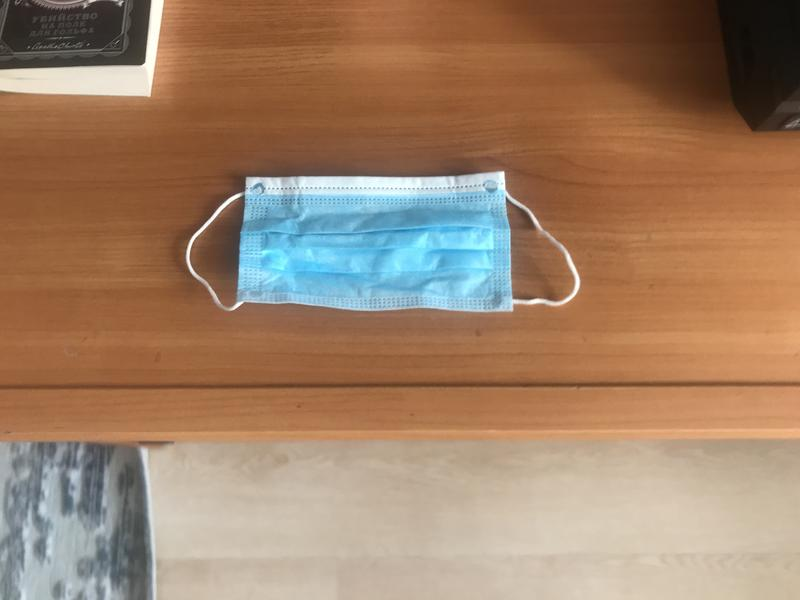medical_mask: (188, 171, 579, 315)
